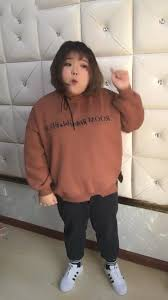people: (25, 42, 145, 294)
